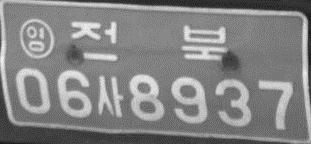0: (14, 67, 50, 116)
3: (214, 77, 252, 128)
6: (56, 68, 92, 120)
7: (257, 79, 293, 131)
8: (127, 72, 165, 122)
9: (169, 75, 209, 126)
사: (96, 74, 124, 118)
영: (18, 17, 54, 60)
전북_D: (67, 19, 229, 65)
